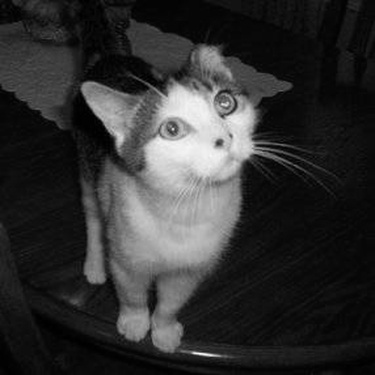cat: (58, 26, 285, 334)
